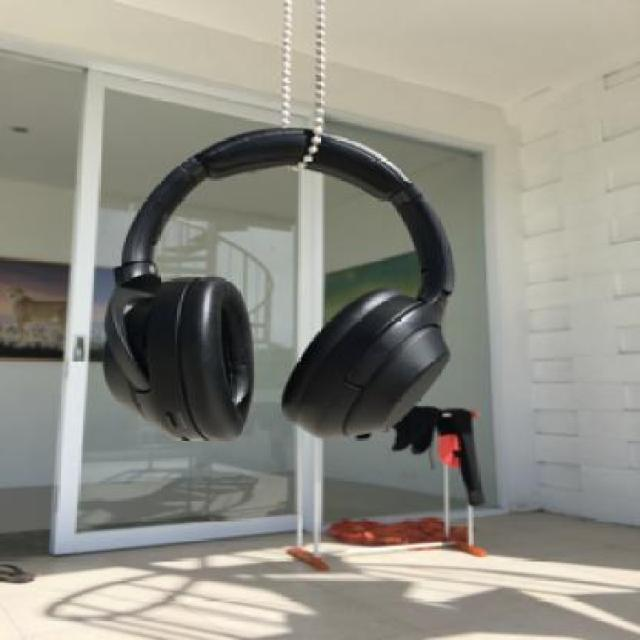earphone: (95, 77, 467, 460)
